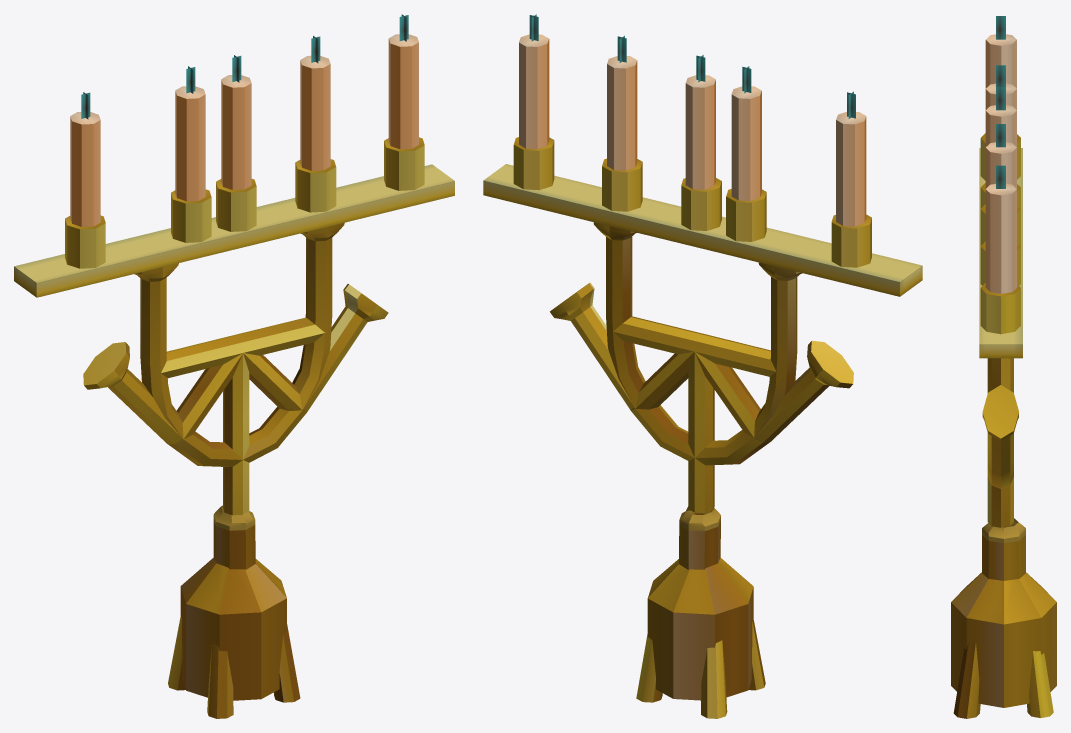
File: candle_336x04.obj
The picture shows the model from 3 angles, left to right: view 1: azimuth 30°, elevation 25°; view 2: azimuth 150°, elevation 25°; view 3: azimuth 270°, elevation 25°; orthographic projection. The views are drawn at different scales.
Visible parts, largest first — view 1: candle_336x4; view 2: candle_336x4; view 3: candle_336x4.
Boxes of the visible parts, x1,y1,x2,y2 form: candle_336x4: (14,14,454,718); candle_336x4: (483,14,922,718); candle_336x4: (951,16,1056,718).
Bounding box in the file's own units: 1.3 × 1.88 × 0.2955.
